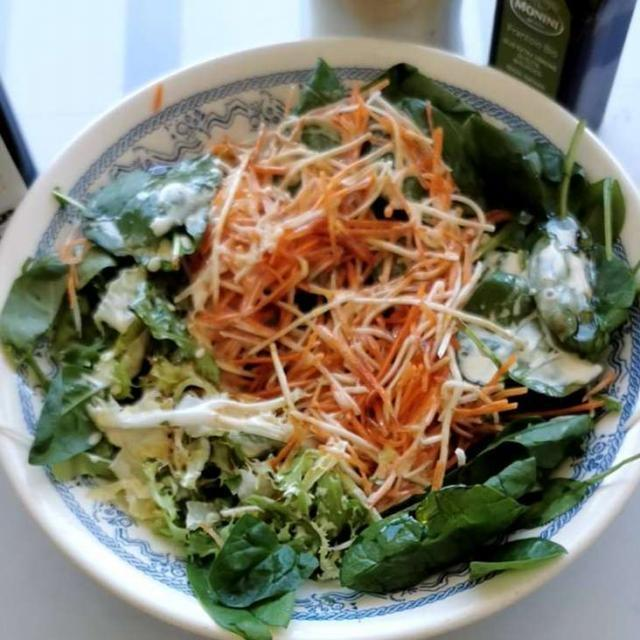carrot: (182, 105, 460, 499)
salad: (84, 339, 364, 552), (398, 219, 612, 392)
spinach: (1, 59, 630, 634)
